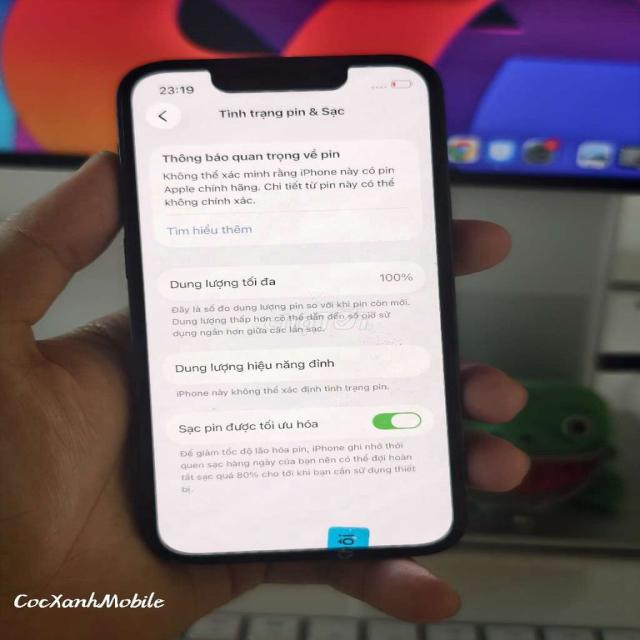gen_12_13: (110, 53, 465, 560)
